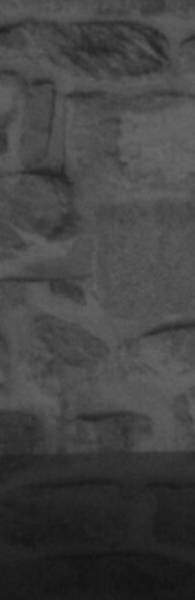water: (0, 456, 195, 600)
